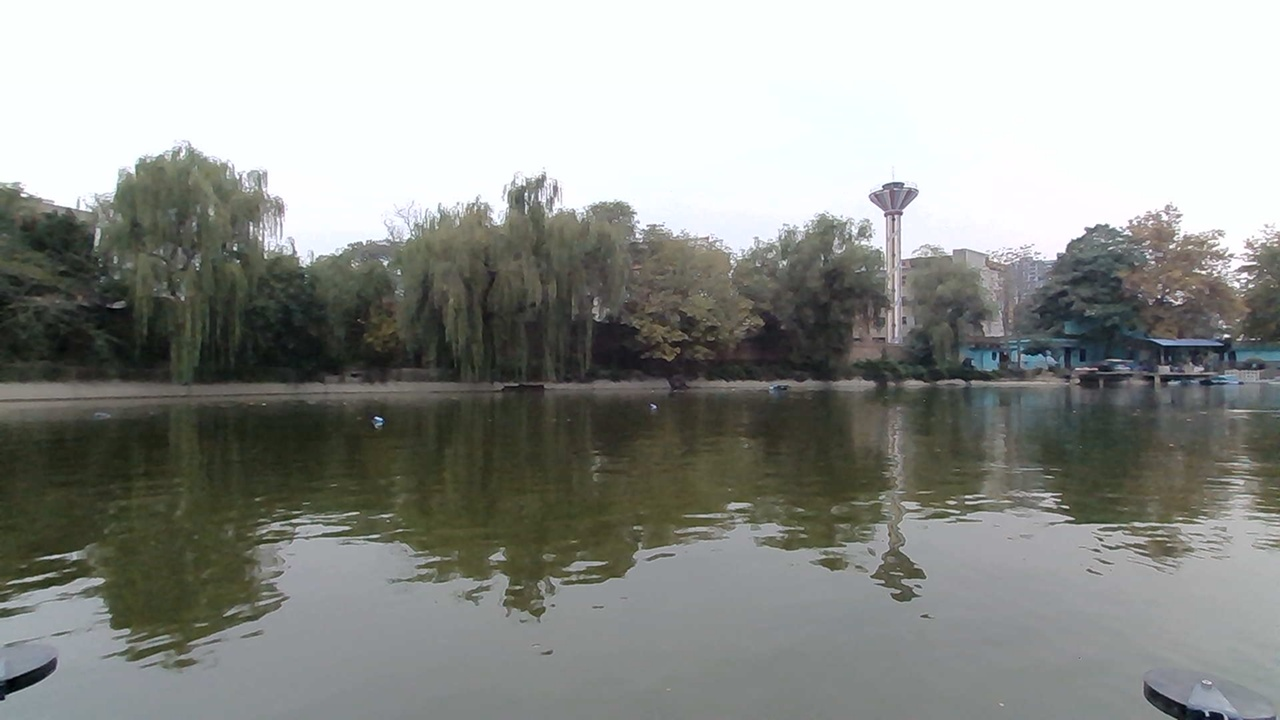bottle: (80, 403, 119, 430), (361, 412, 392, 430)
